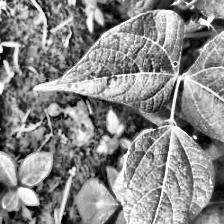ALS: (36, 12, 189, 115), (86, 0, 179, 14)
